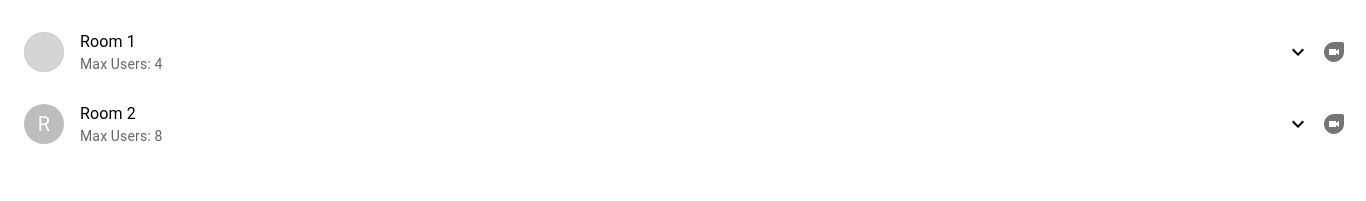
Scenario: Rooms component › expands and collapses a room when clicked in the RoomsList
Click the text "Room 1".
click(108, 42)  # box [80, 32, 136, 51]
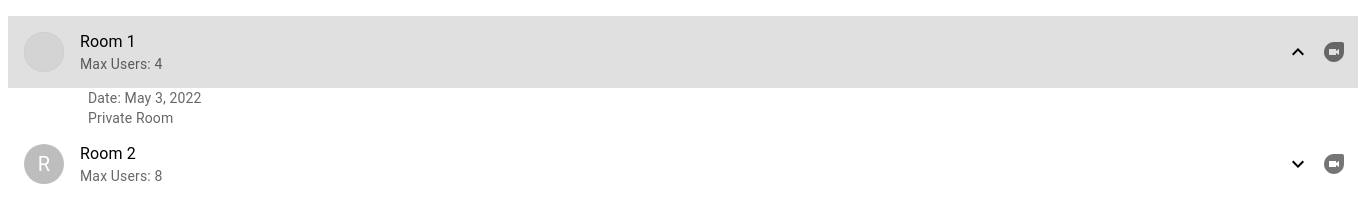
Now the text "Date: May 3, 2022Private Room" is shown, box [88, 90, 202, 126]
Click the text "Room 1".
click(108, 42)  # box [80, 32, 136, 51]
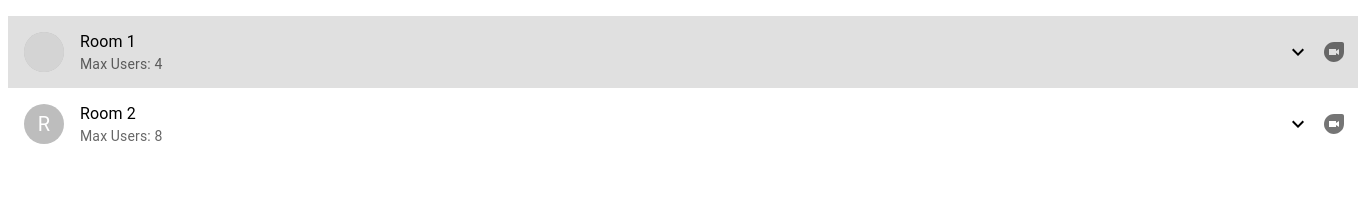
Now the text "Date: May 3, 2022" is gone
